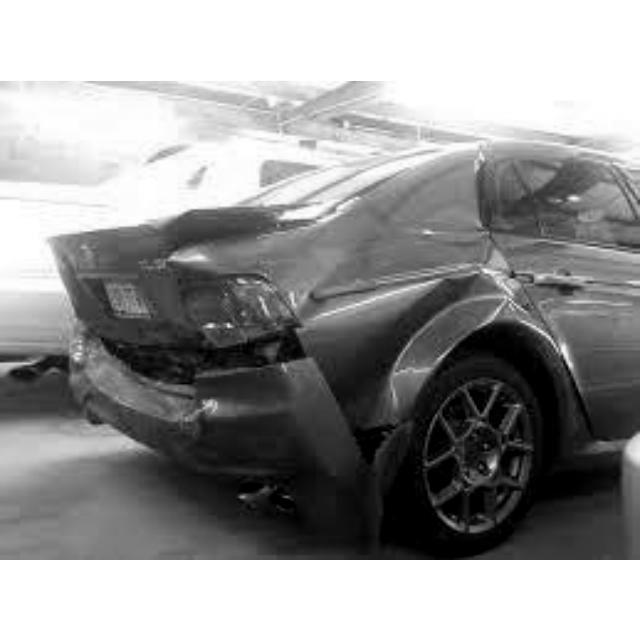quaterpanel-dent: (305, 236, 502, 386)
rear-bumper-dent: (58, 333, 307, 444)
